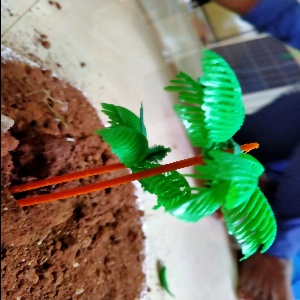plant: (160, 39, 284, 272), (88, 95, 193, 225)
